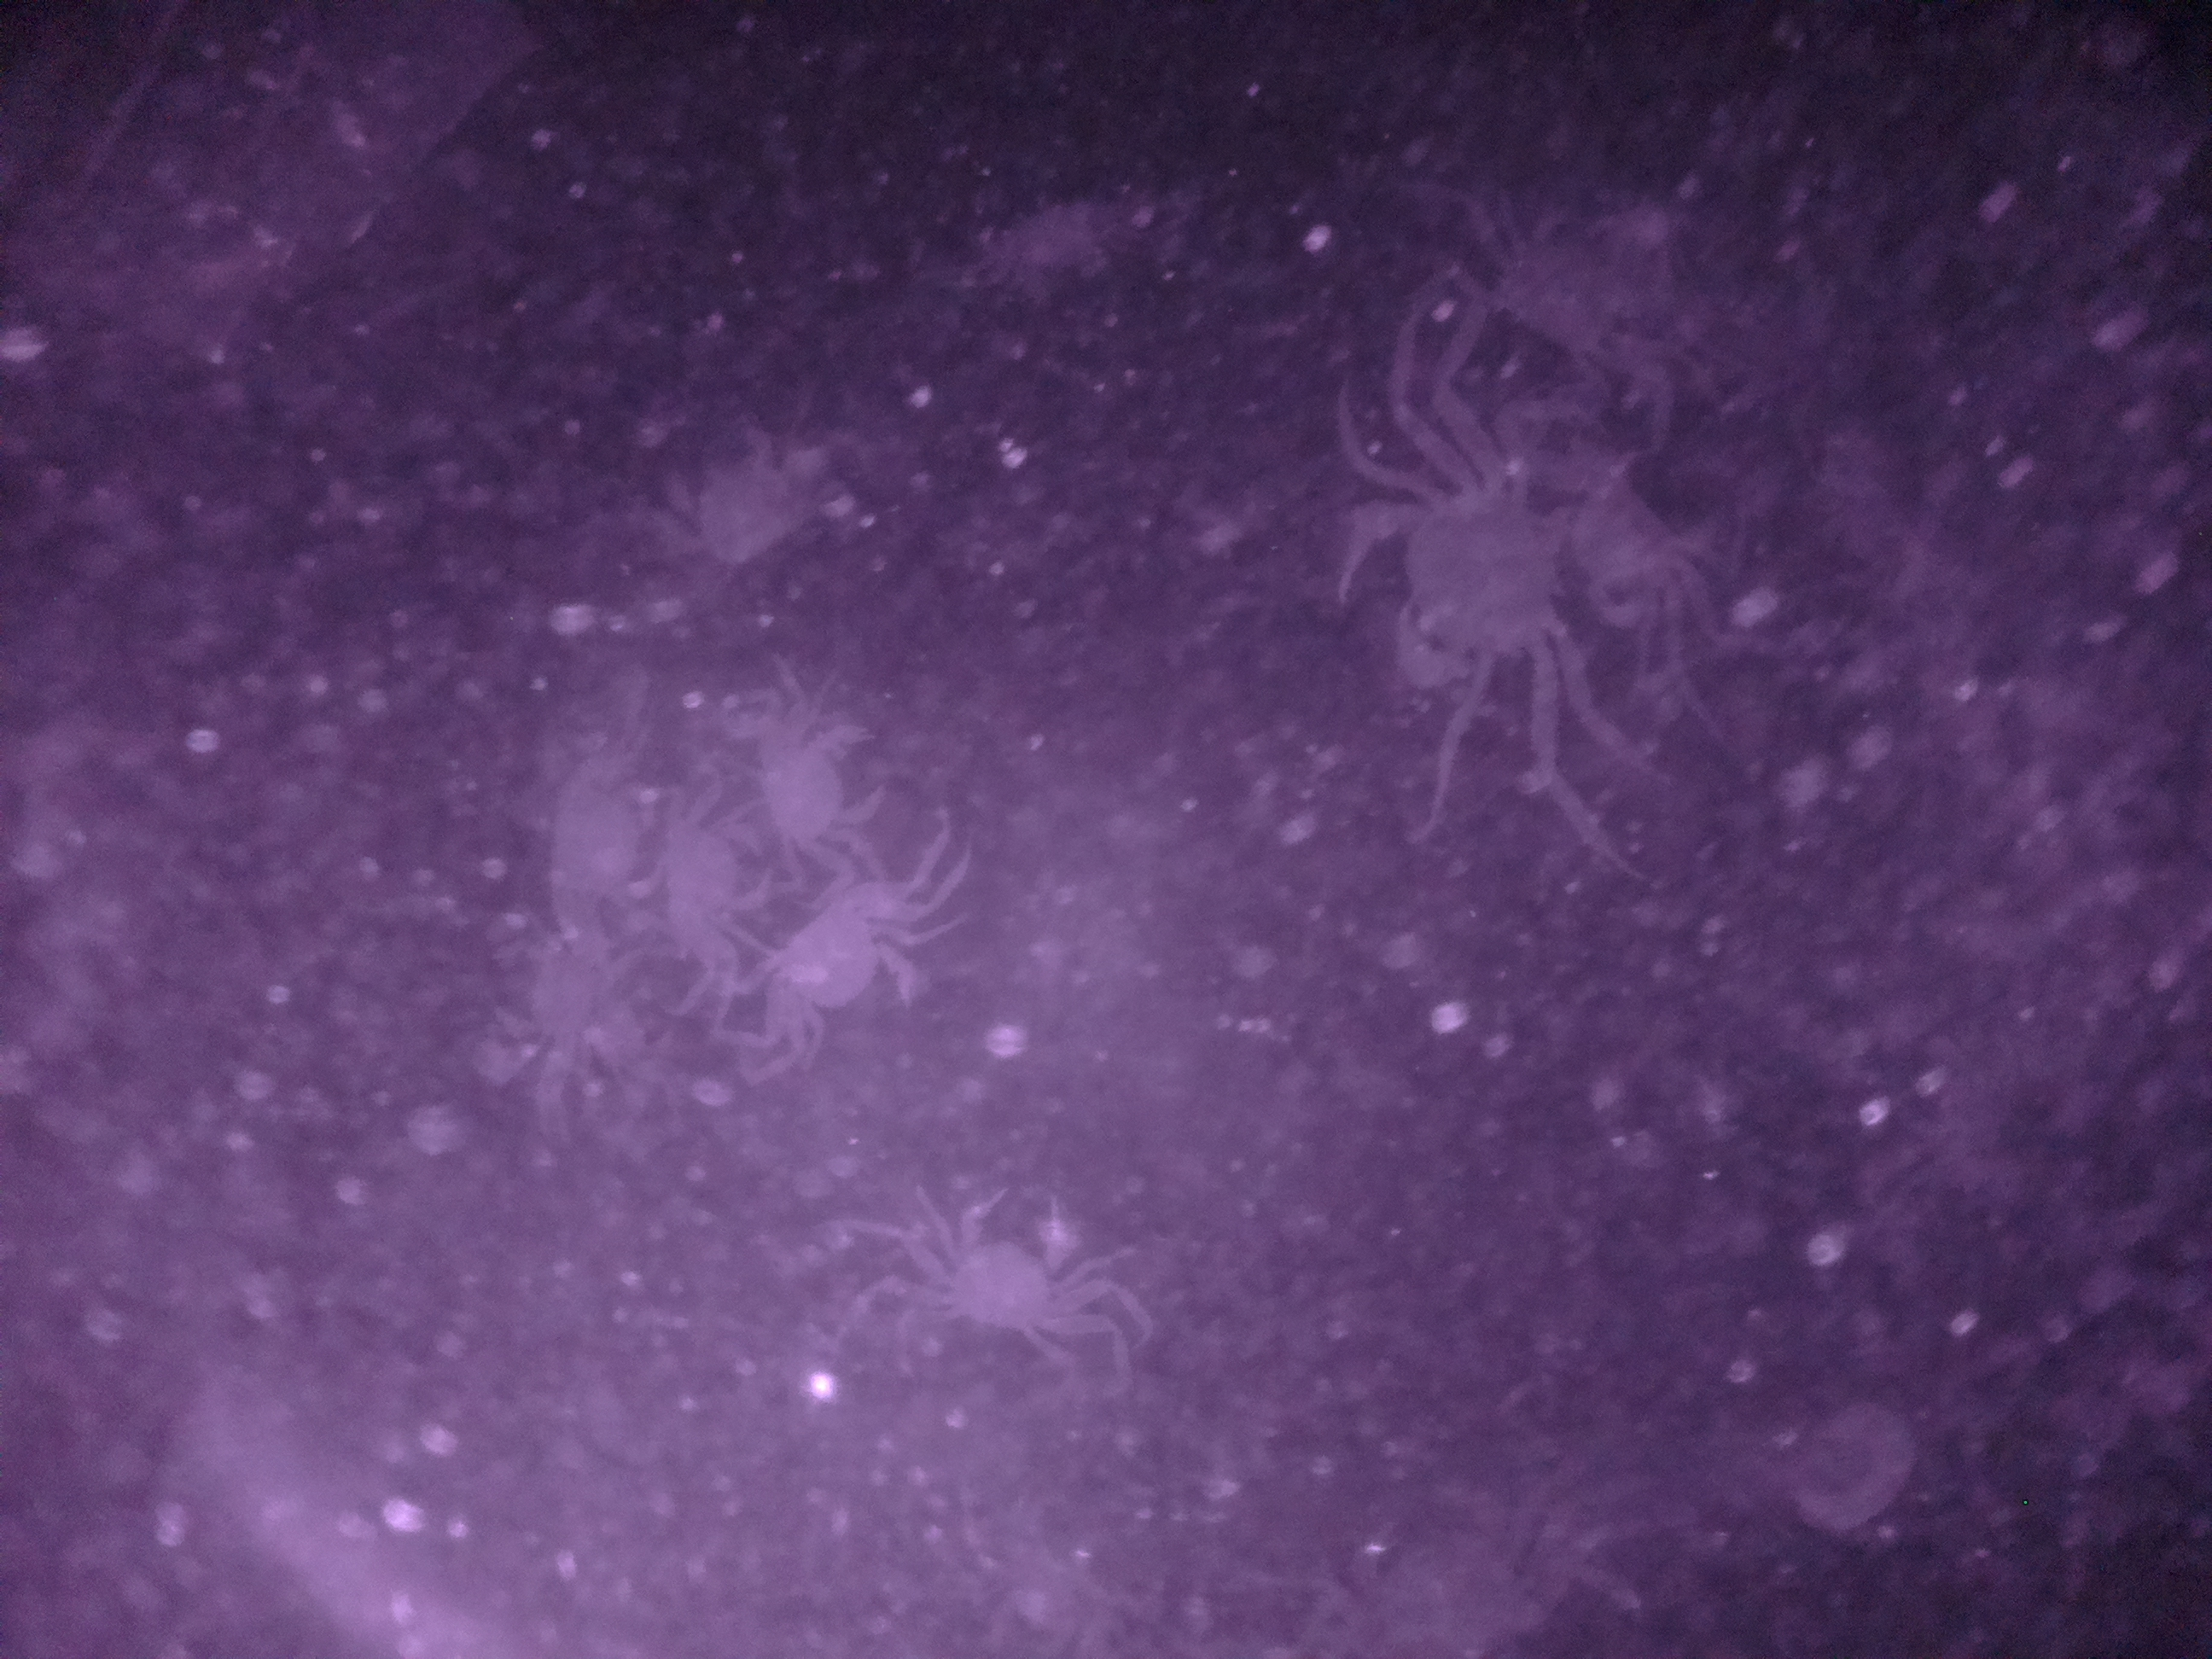Crab: (1324, 423, 1575, 730), (914, 1164, 1115, 1364), (754, 870, 941, 1080), (735, 687, 900, 870)
